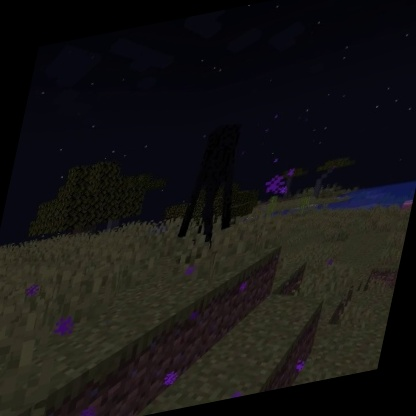enderman: (170, 116, 257, 260)
